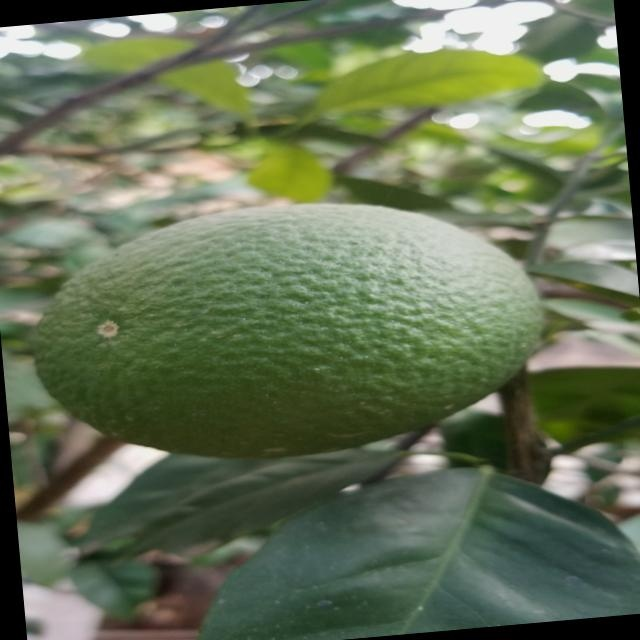agrume: (20, 176, 560, 480)
